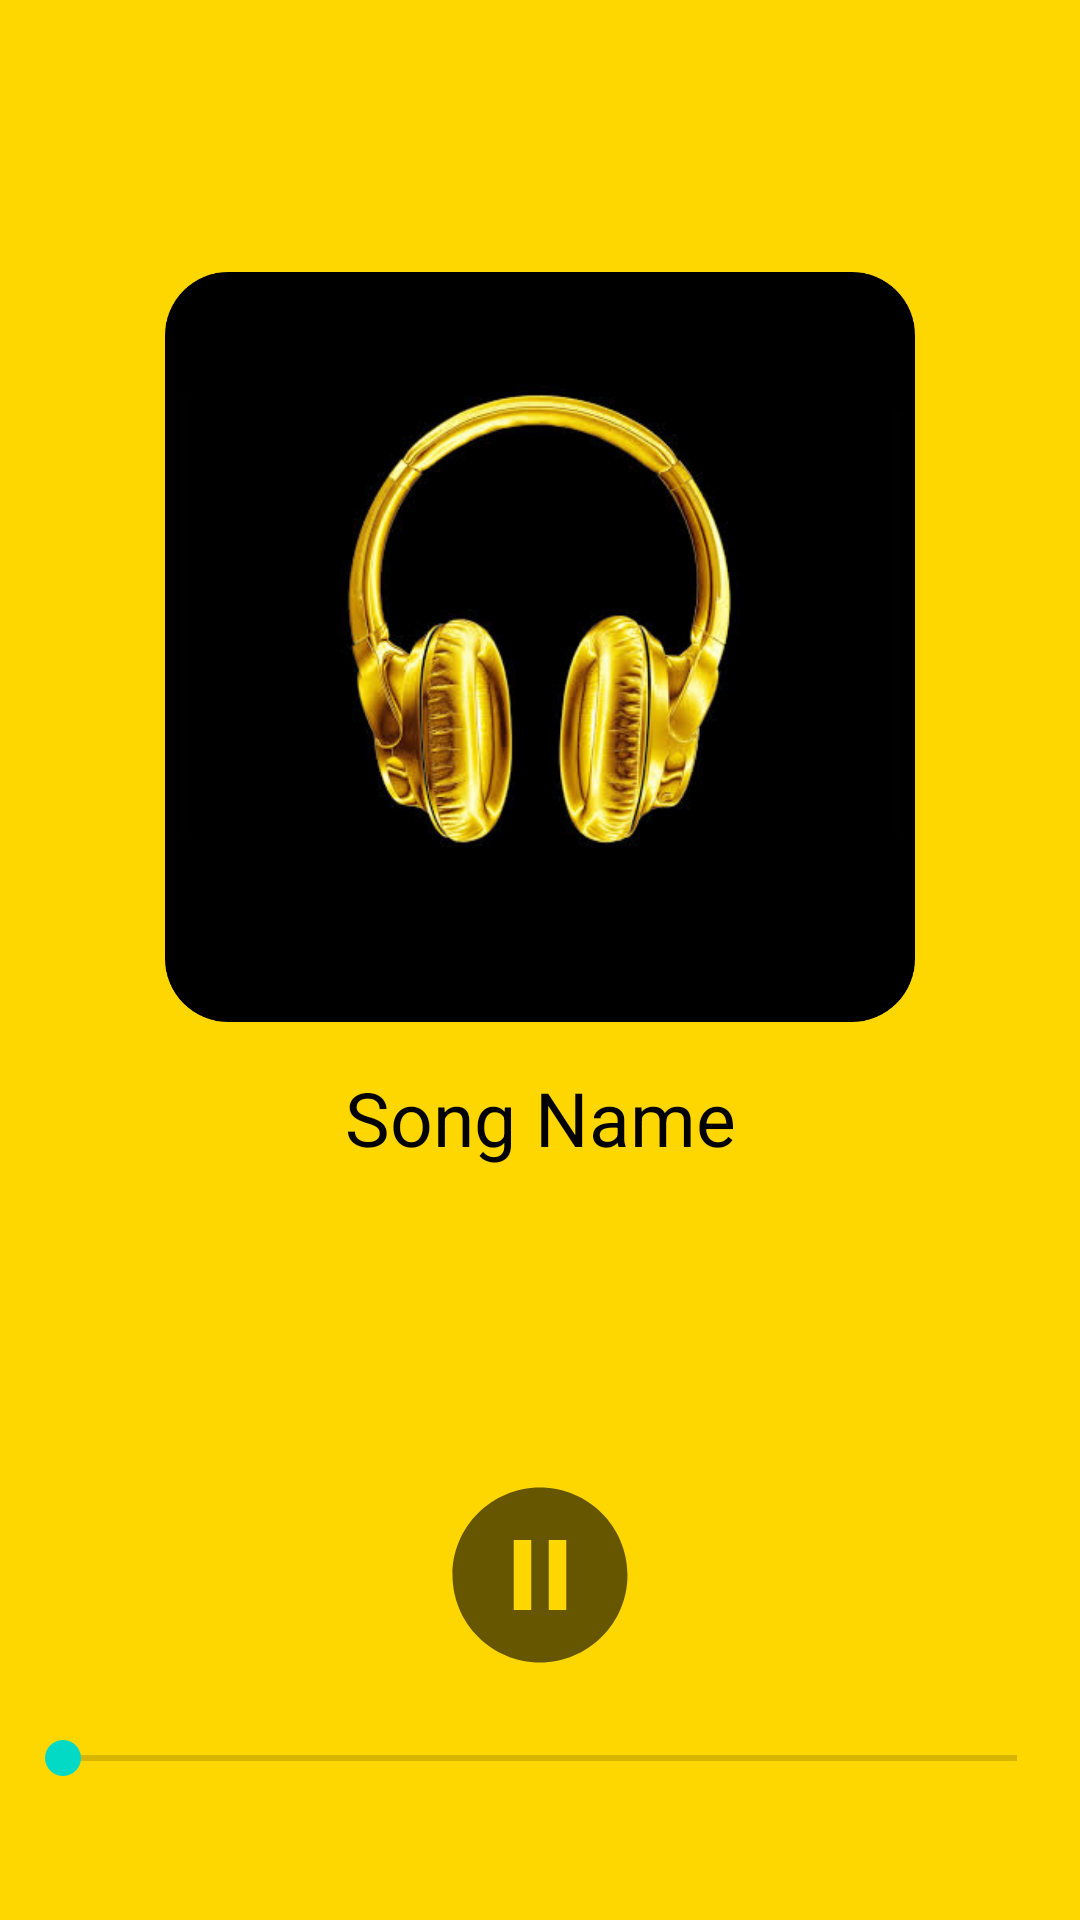

Screen size 1080px x 1920px. Icon name, then its box in pixels as (x1, y1, x2, y2):
pause: (452, 1487, 628, 1663)
